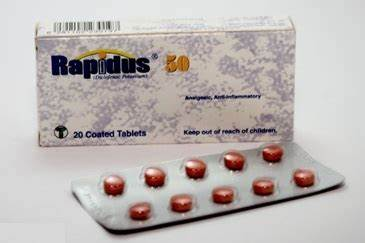Medicine: (33, 16, 299, 151)
